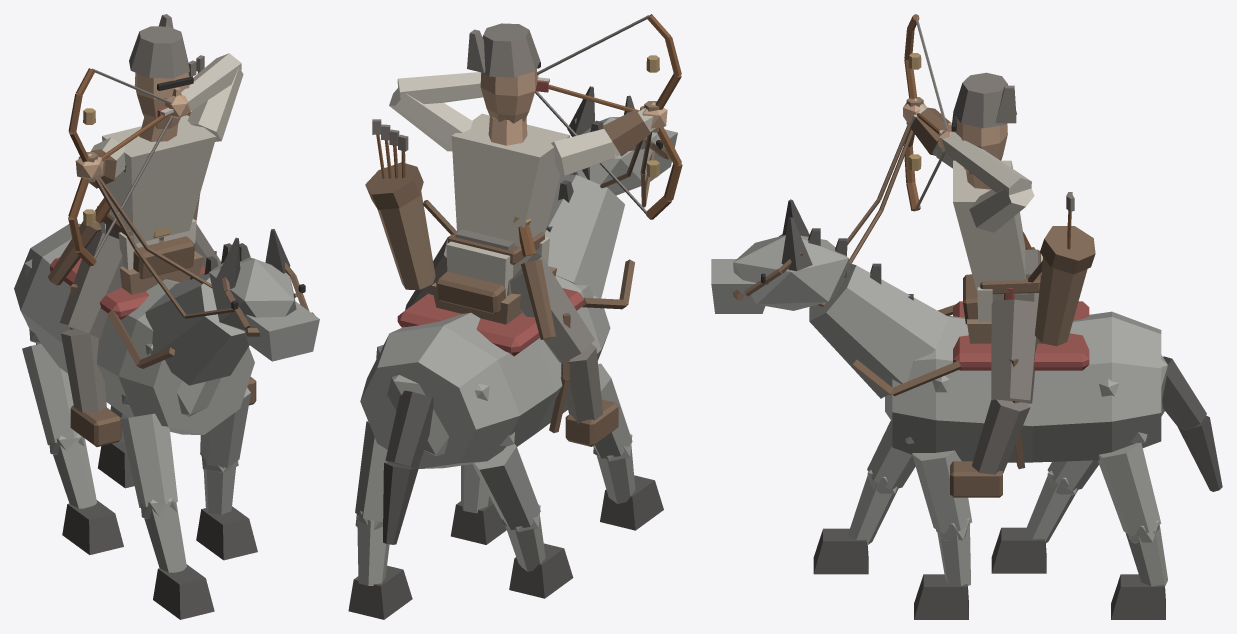
Rendered from chr_f1_horse_archer_pixel_v003.glb.
The picture shows the model from 3 angles, left to right: view 1: azimuth 30°, elevation 25°; view 2: azimuth 150°, elevation 25°; view 3: azimuth 270°, elevation 25°; orthographic projection. The views are drawn at different scales.
Visible parts, largest first — view 1: HA_Horse_Body, HA_Rider_Torso, HA_Horse_Neck, HA_Horse_FrontL_Upper, HA_Horse_Head, HA_Rider_Thigh_L, HA_Horse_HindL_Upper, HA_Horse_Muzzle, HA_Rider_Shin_L, HA_Rider_SoftCap, HA_Horse_FrontL_Hoof, HA_Horse_HindL_Hoof (+26 smaller); view 2: HA_Horse_Body, HA_Rider_Torso, HA_Horse_Neck, HA_Gear_Quiver, HA_Horse_HindL_Upper, HA_Rider_Thigh_L, HA_Tack_SaddlePad, HA_Horse_TailRoot, HA_Rider_SoftCap, HA_Rider_UpperArm_R, HA_Rider_Head, HA_Rider_Shin_L (+30 smaller); view 3: HA_Horse_Body, HA_Horse_Neck, HA_Horse_Head, HA_Rider_Torso, HA_Rider_Thigh_R, HA_Horse_HindR_Upper, HA_Tack_SaddlePad, HA_Gear_Quiver, HA_Horse_FrontR_Upper, HA_Rider_Shin_R, HA_Rider_Forearm_R, HA_Rider_SoftCap (+20 smaller).
Boxes of the visible parts, left/top/right/bottom form: HA_Horse_Body: left=14, top=223, right=254, bottom=434; HA_Rider_Torso: left=102, top=115, right=216, bottom=243; HA_Horse_Neck: left=145, top=273, right=249, bottom=385; HA_Horse_FrontL_Upper: left=120, top=413, right=177, bottom=507; HA_Horse_Head: left=209, top=257, right=296, bottom=331; HA_Rider_Thigh_L: left=59, top=231, right=122, bottom=338; HA_Horse_HindL_Upper: left=22, top=343, right=82, bottom=445; HA_Horse_Muzzle: left=244, top=301, right=319, bottom=361; HA_Rider_Shin_L: left=61, top=329, right=106, bottom=413; HA_Rider_SoftCap: left=129, top=26, right=189, bottom=78; HA_Horse_FrontL_Hoof: left=153, top=564, right=214, bottom=619; HA_Horse_HindL_Hoof: left=62, top=500, right=123, bottom=554; HA_Horse_Body: left=360, top=275, right=610, bottom=468; HA_Rider_Torso: left=451, top=113, right=570, bottom=246; HA_Horse_Neck: left=545, top=174, right=624, bottom=298; HA_Gear_Quiver: left=378, top=191, right=435, bottom=289; HA_Horse_HindL_Upper: left=472, top=444, right=540, bottom=529; HA_Rider_Thigh_L: left=510, top=253, right=594, bottom=363; HA_Tack_SaddlePad: left=397, top=288, right=583, bottom=356; HA_Horse_TailRoot: left=385, top=390, right=433, bottom=468; HA_Rider_SoftCap: left=482, top=23, right=540, bottom=77; HA_Rider_UpperArm_R: left=389, top=88, right=472, bottom=151; HA_Rider_Head: left=480, top=69, right=537, bottom=123; HA_Rider_Shin_L: left=566, top=343, right=602, bottom=424; HA_Horse_Body: left=892, top=311, right=1161, bottom=462; HA_Horse_Neck: left=809, top=263, right=948, bottom=398; HA_Horse_Head: left=733, top=235, right=849, bottom=310; HA_Rider_Torso: left=953, top=160, right=1028, bottom=294; HA_Rider_Thigh_R: left=991, top=299, right=1038, bottom=403; HA_Horse_HindR_Upper: left=1098, top=443, right=1161, bottom=536; HA_Tack_SaddlePad: left=953, top=301, right=1089, bottom=370; HA_Gear_Quiver: left=1034, top=257, right=1087, bottom=346; HA_Horse_FrontR_Upper: left=912, top=450, right=972, bottom=533; HA_Rider_Shin_R: left=972, top=399, right=1030, bottom=474; HA_Rider_Forearm_R: left=941, top=132, right=1031, bottom=195; HA_Rider_SoftCap: left=953, top=72, right=1016, bottom=128.
Bounding box in the file's own units: 1.38 × 3.05 × 2.7.
